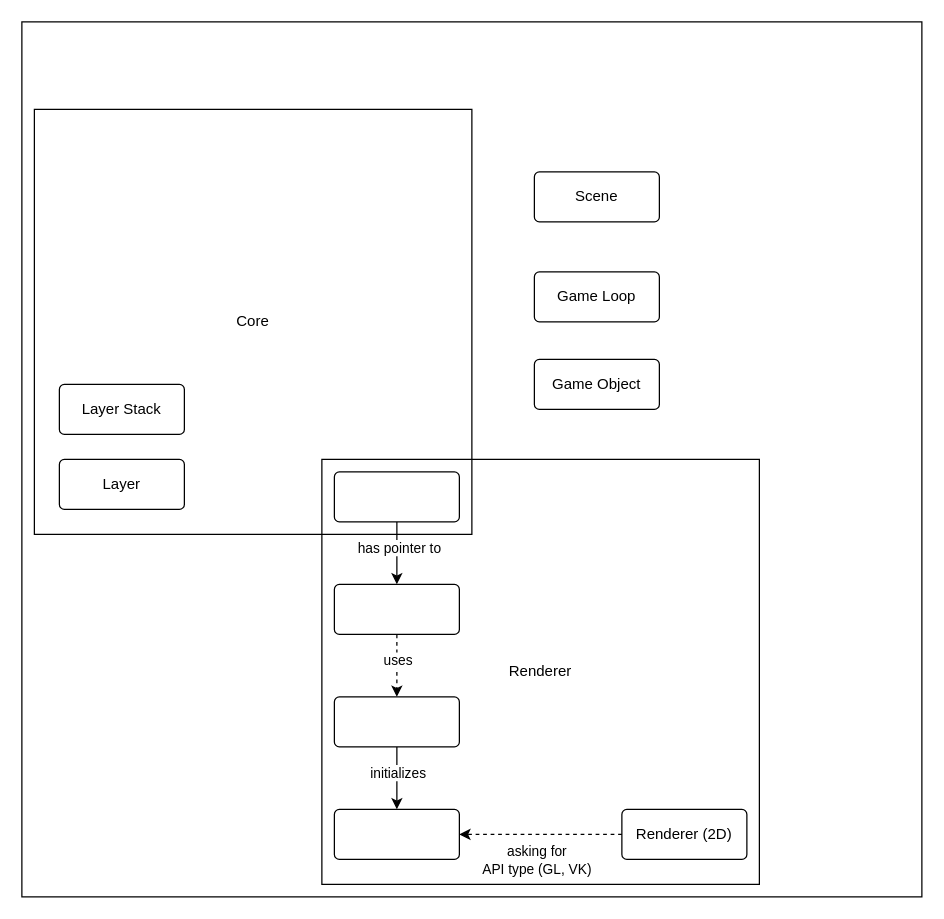
Some shapes in this 944 by 919 pixel diagram are drawn without their labels. Here are the shapes that lost their labels. From the top down, the box of each, then its label:
(333, 471, 459, 522): Window
(333, 583, 459, 634): GraphicsContext
(333, 696, 459, 747): Render Command
(333, 808, 459, 859): Renderer API
